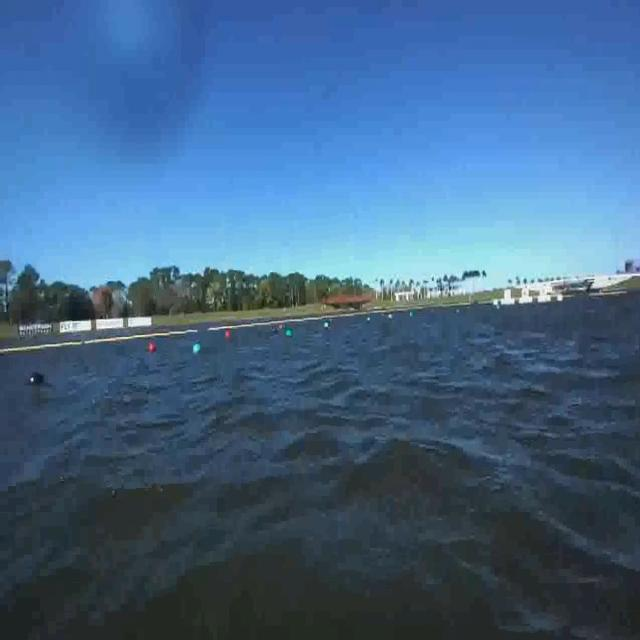black-buoy: (24, 365, 48, 394)
green-buoy: (194, 343, 203, 354)
red-buoy: (148, 344, 156, 354)
